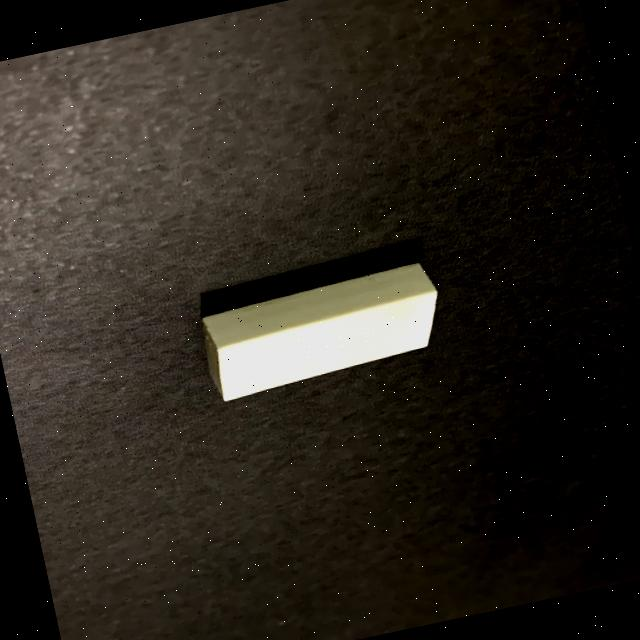Eraser: (166, 235, 481, 424)
